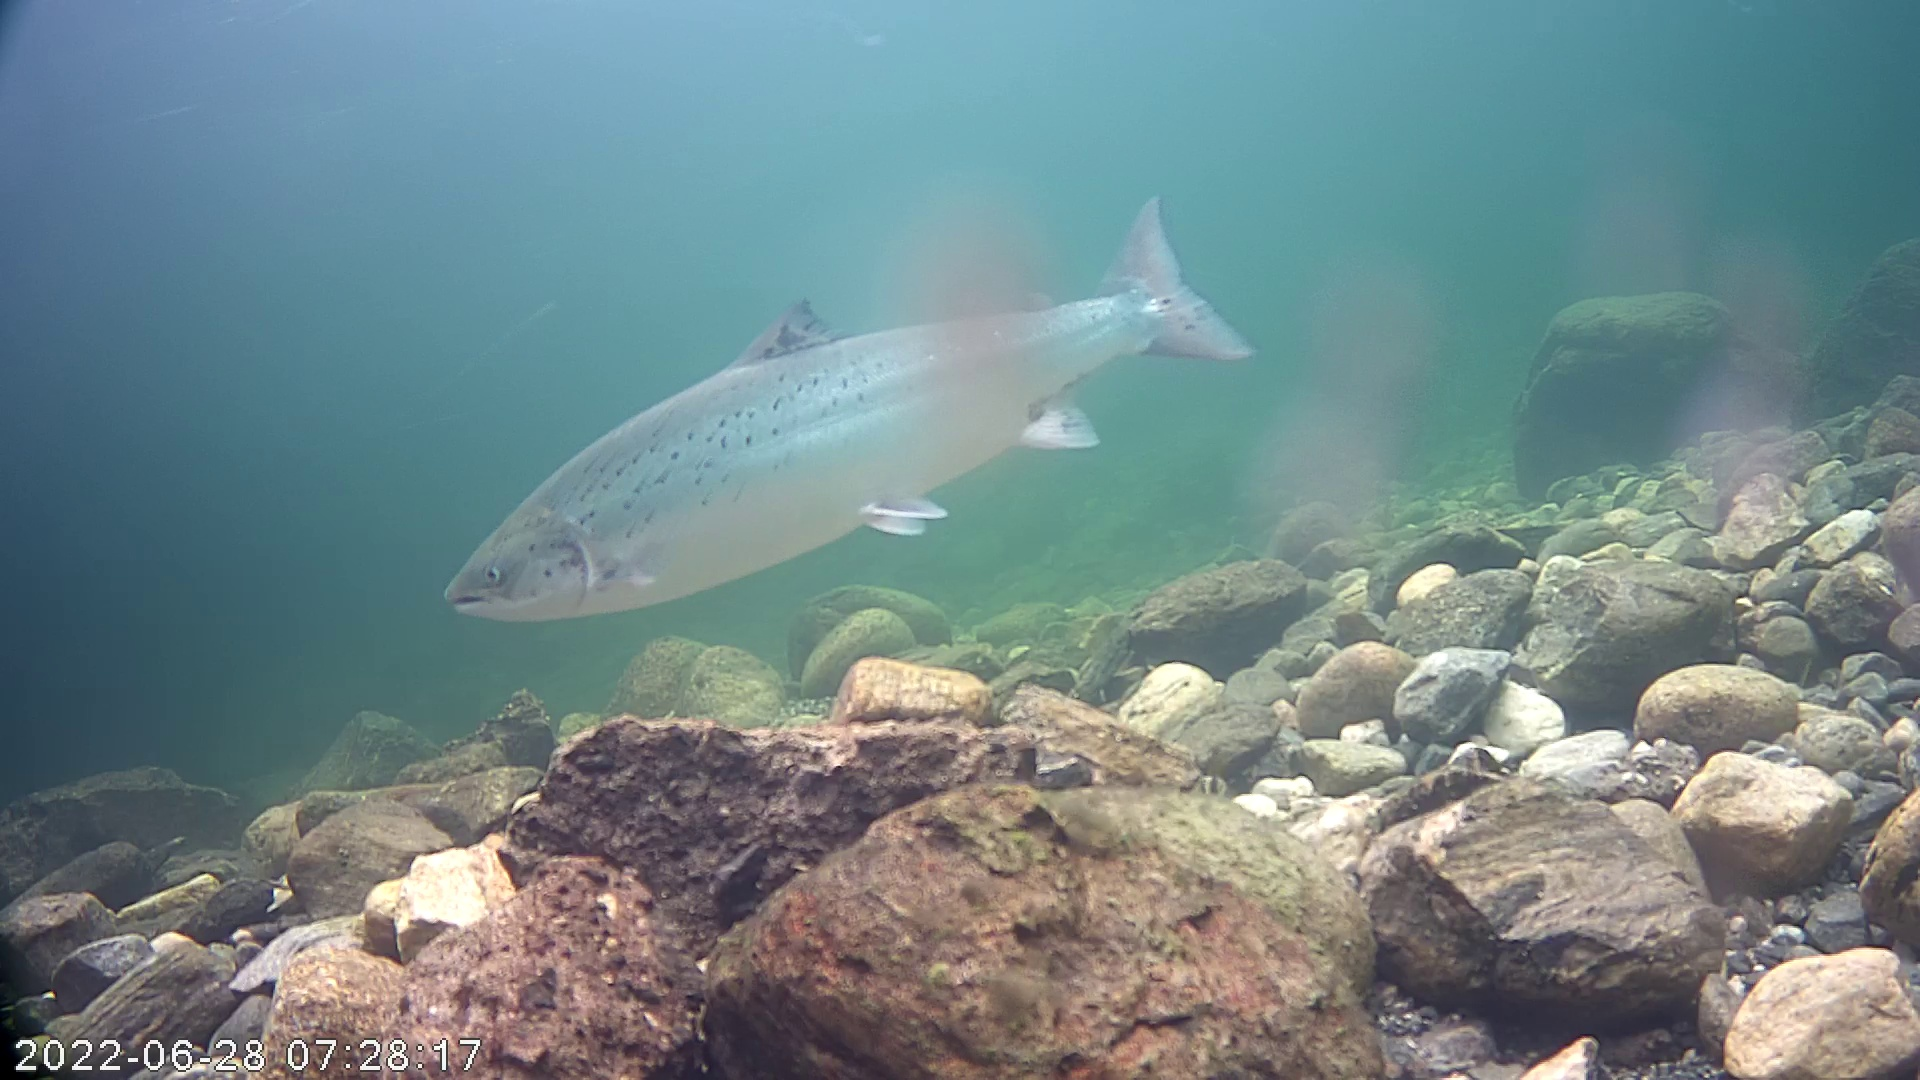salmon: (450, 171, 1280, 629)
